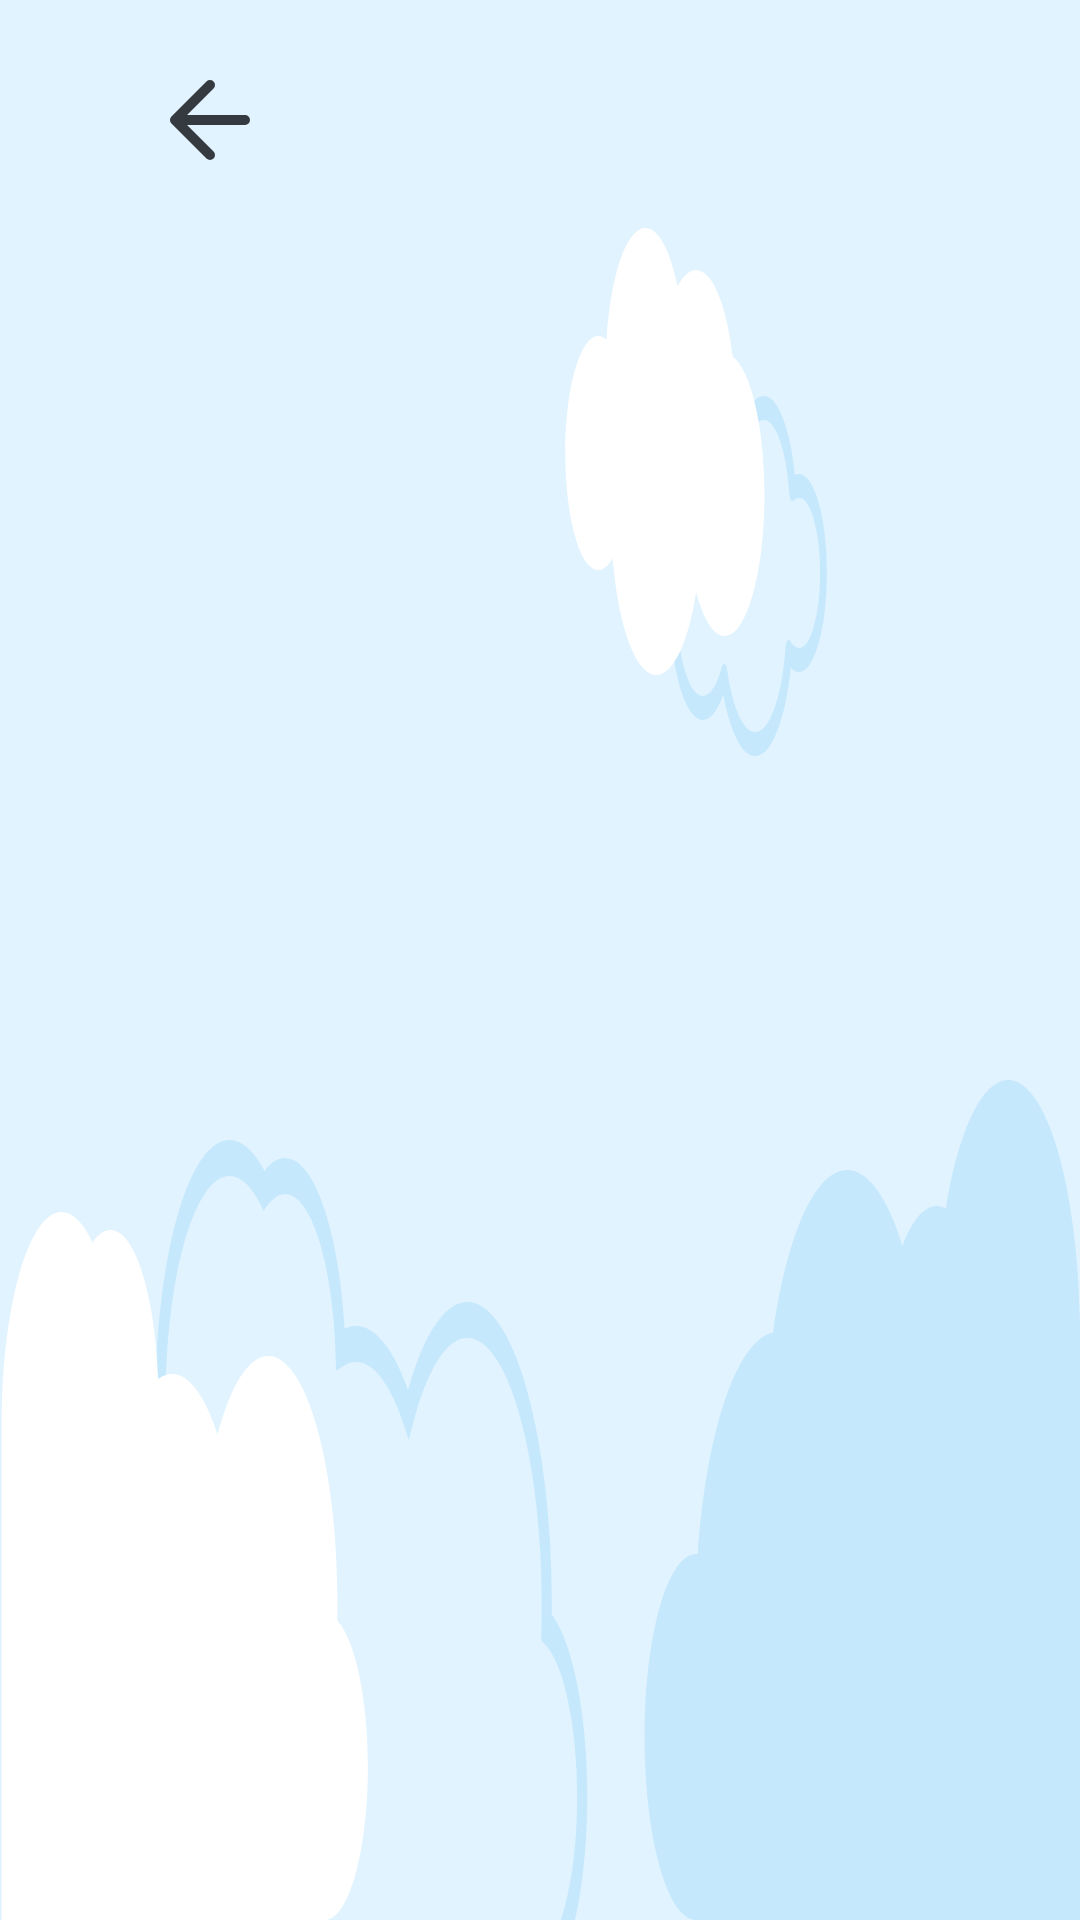

Screen size 1080*1920. Icon name, then its center in pixels as point (x, y):
left: point (210, 120)
